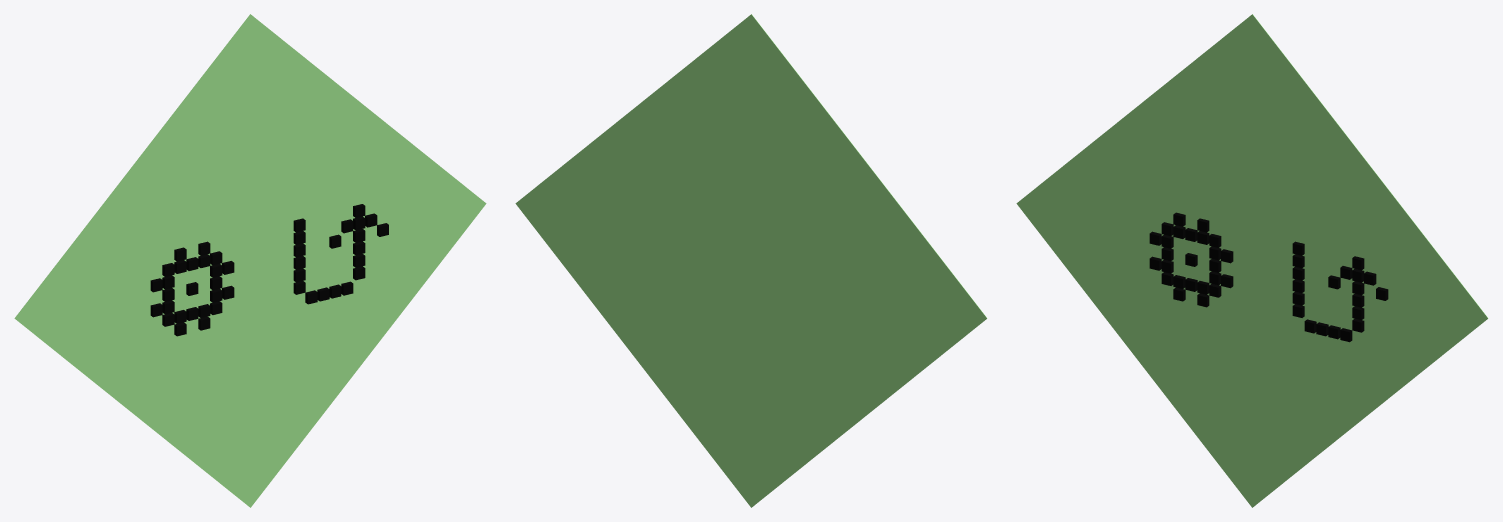
File: ClearMyVirus.fbx
3 renders of one model, left to right at view 1: azimuth 30°, elevation 25°; view 2: azimuth 150°, elevation 25°; view 3: azimuth 330°, elevation 25°, orthographic.
Visible parts, largest first — view 1: Cube.046; view 2: Cube.046; view 3: Cube.046.
Boxes of the visible parts, x1,y1,x2,y2 form: Cube.046: [14, 14, 486, 507]; Cube.046: [515, 14, 987, 507]; Cube.046: [1016, 14, 1488, 507].
Size of the model in its own units: 198 by 198 by 2.1.
